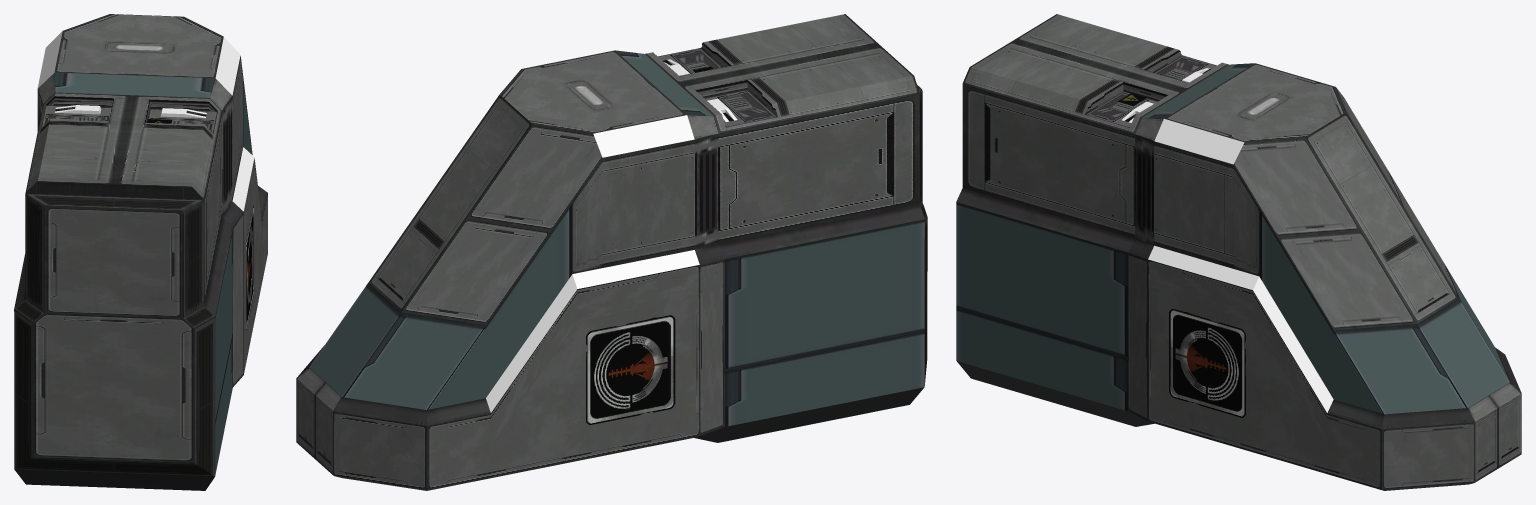
Rendered from future-crate2.obj.
3 renders of one model, left to right at view 1: azimuth 30°, elevation 25°; view 2: azimuth 150°, elevation 25°; view 3: azimuth 270°, elevation 25°, orthographic. The views are drawn at different scales.
Visible parts, largest first — view 1: Mesh3 Component_3_1 Model, Mesh1 Component_4_1 Component_3_1 Model; view 2: Mesh3 Component_3_1 Model, Mesh2 Component_5_1 Component_3_1 Model; view 3: Mesh3 Component_3_1 Model, Mesh1 Component_4_1 Component_3_1 Model.
Part boxes in pixels (box(x1,y1,x2,y2)): Mesh3 Component_3_1 Model: box(14, 14, 267, 490); Mesh1 Component_4_1 Component_3_1 Model: box(246, 205, 253, 330); Mesh3 Component_3_1 Model: box(296, 14, 927, 490); Mesh2 Component_5_1 Component_3_1 Model: box(586, 315, 675, 424); Mesh3 Component_3_1 Model: box(956, 14, 1521, 490); Mesh1 Component_4_1 Component_3_1 Model: box(1169, 309, 1245, 417).
Size of the model in its own units: 3.85 by 2.82 by 4.64.
